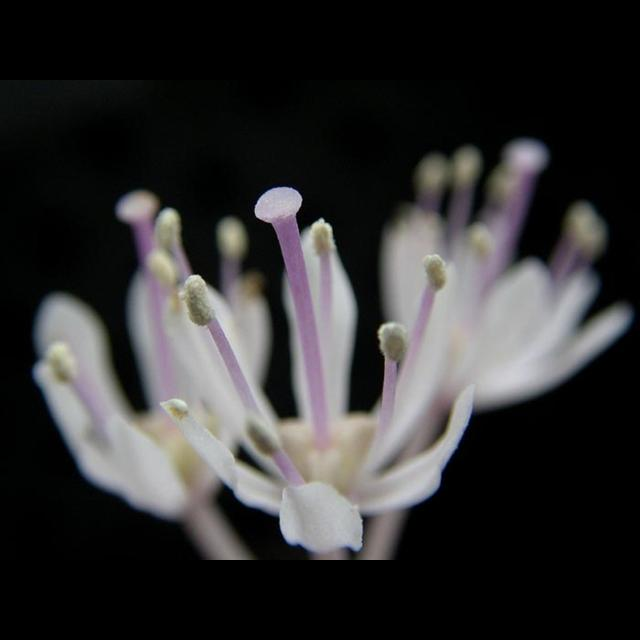Flower: (18, 144, 634, 560)
